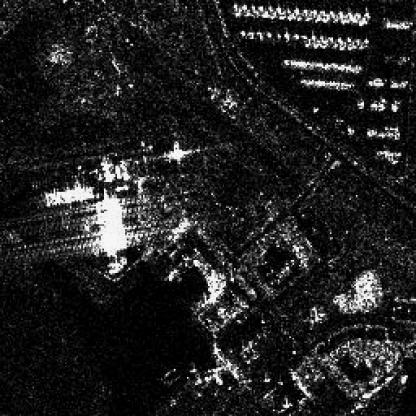airplane: (255, 31, 263, 41), (247, 31, 253, 41), (265, 31, 271, 39), (283, 32, 289, 40), (239, 29, 245, 36), (308, 34, 314, 41), (292, 33, 298, 39), (302, 34, 307, 41)
